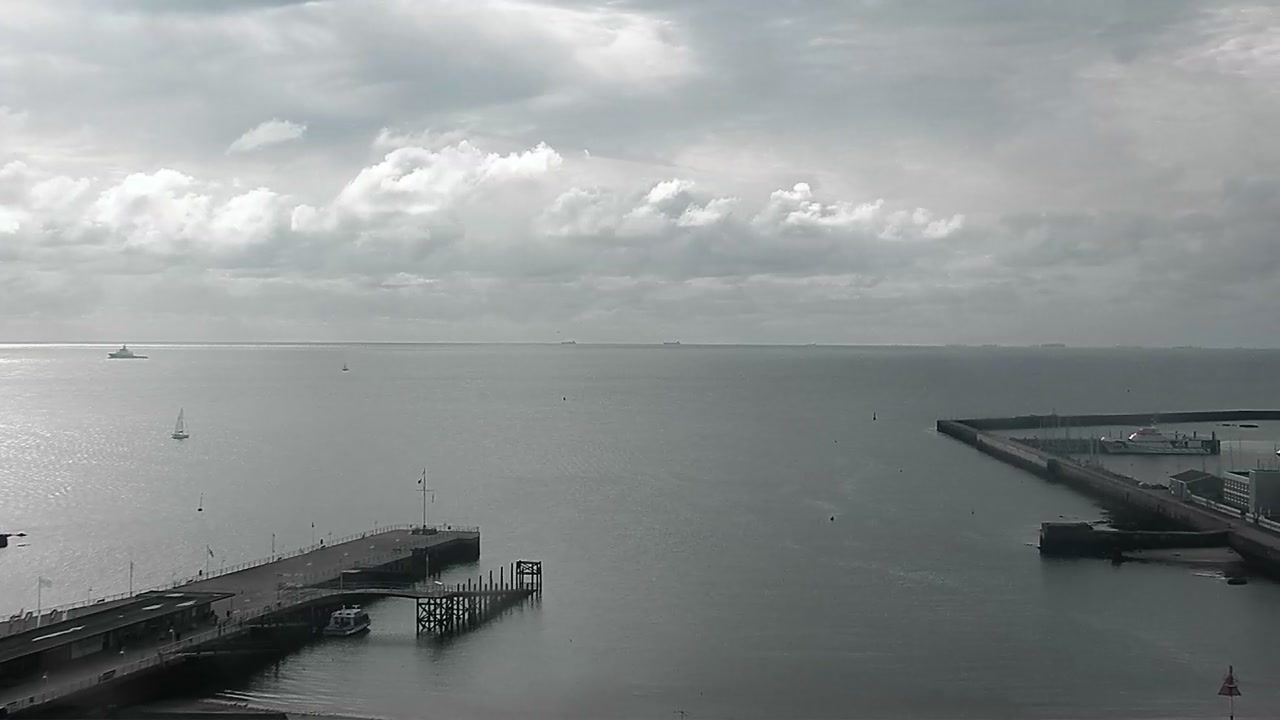sea: (1099, 417, 1210, 455), (322, 604, 372, 637), (107, 343, 148, 358), (171, 406, 189, 439), (663, 338, 681, 344), (561, 338, 577, 344), (340, 361, 348, 371)
